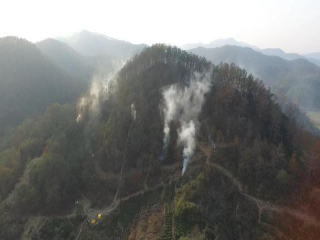smoke: (158, 71, 215, 176)
